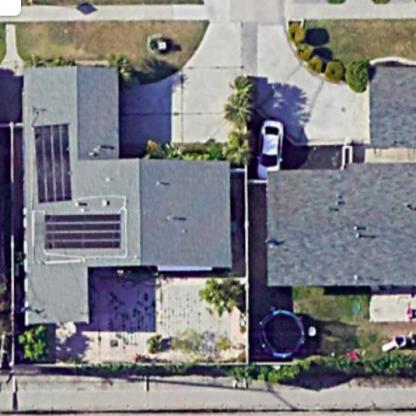car: (245, 113, 288, 182)
solar_panel: (36, 206, 133, 256), (28, 119, 75, 206)
